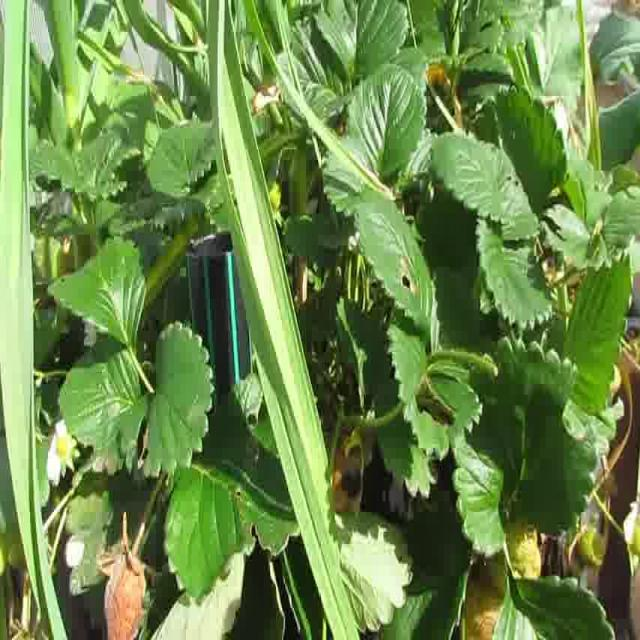Fruta sana: (488, 518, 542, 601), (460, 580, 514, 640), (478, 548, 509, 608), (576, 527, 608, 566), (627, 521, 640, 557), (268, 181, 282, 214), (55, 435, 69, 458)
Moho gris: (103, 549, 147, 640)
